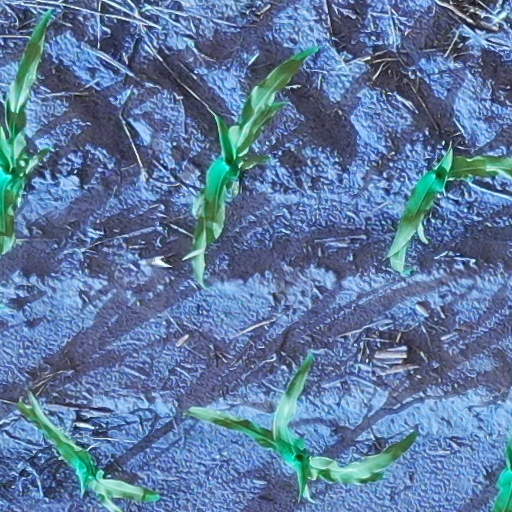planta: (182, 348, 422, 506), (181, 41, 324, 290)
